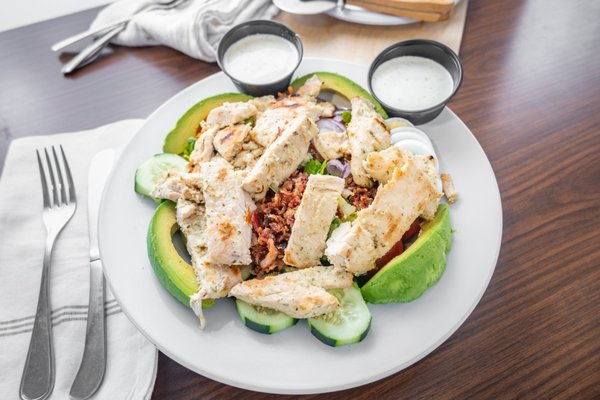burger: (50, 0, 178, 61)
soup: (329, 125, 457, 304)
sushi: (367, 38, 463, 125)
